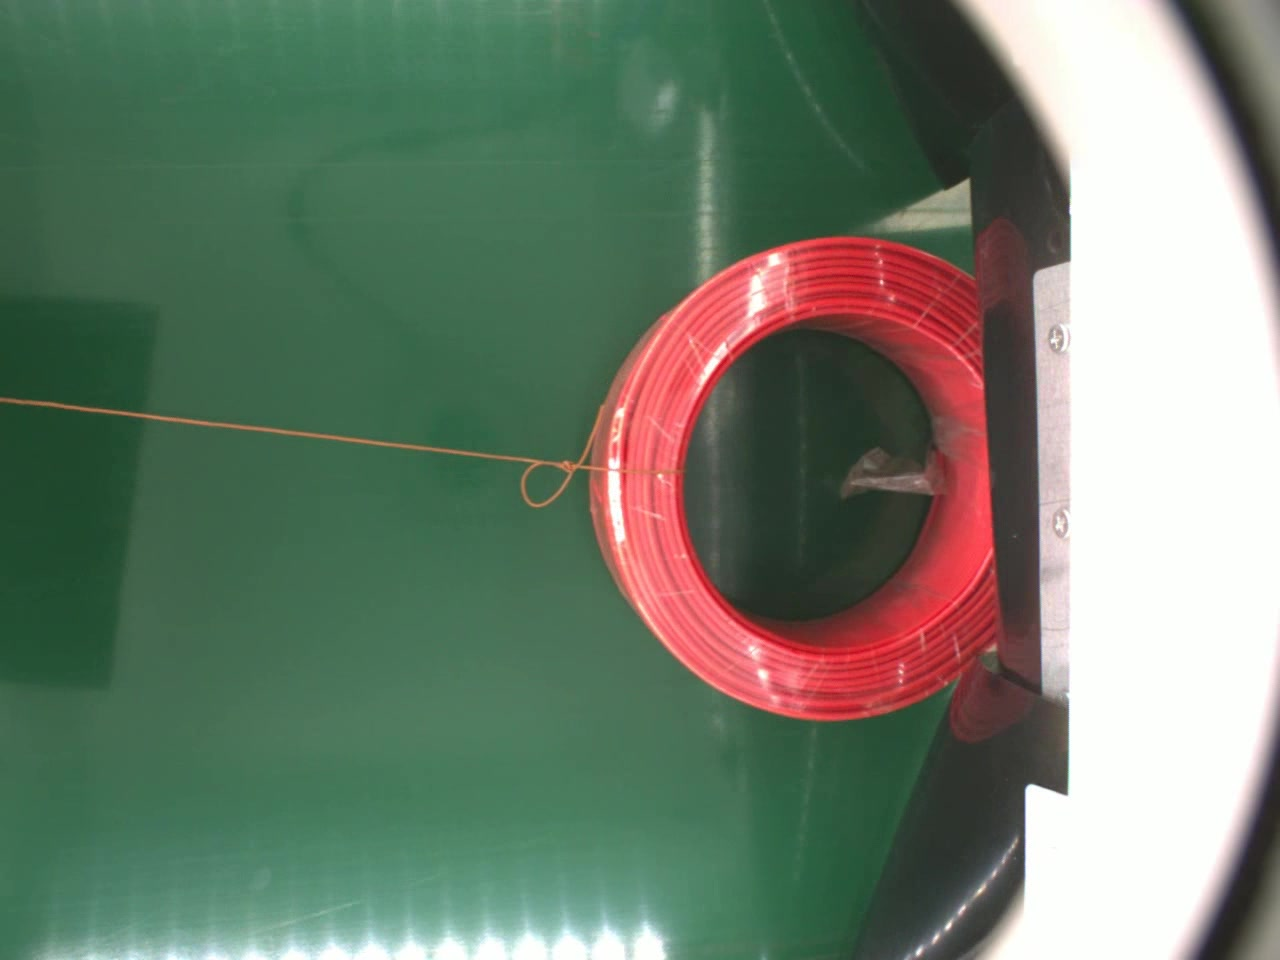red: (583, 235, 996, 723)
